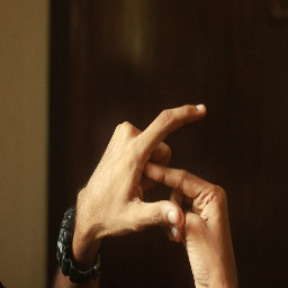E: (129, 97, 222, 240)
